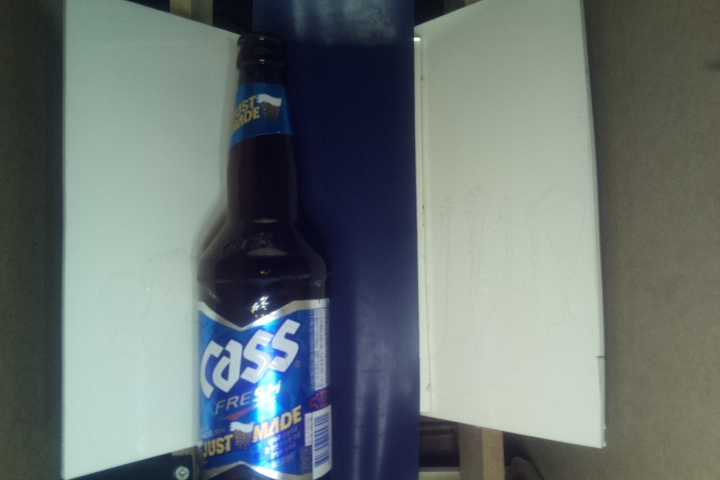makju: (193, 31, 336, 480)
